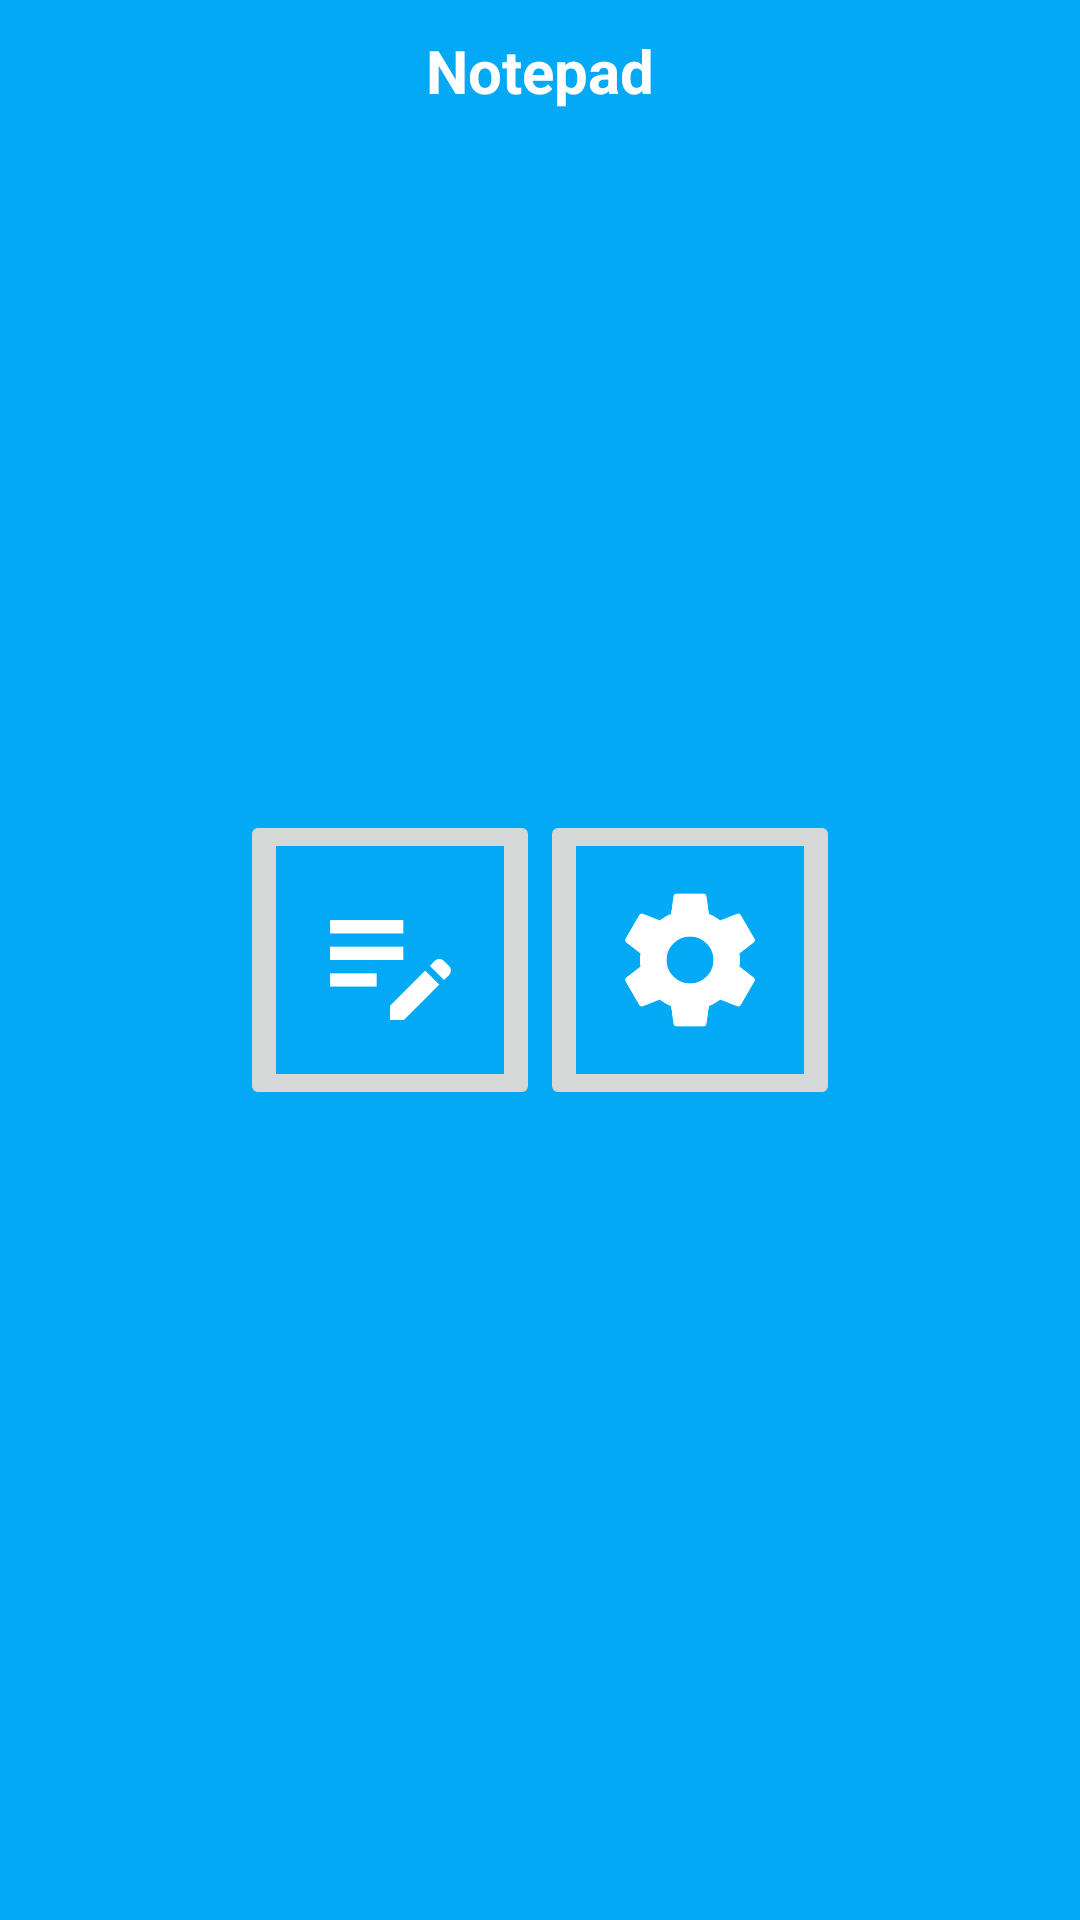

Screen size 1080px x 1920px. Icon name, then its center in pixels as (x,y):
notepad: (390,960)
settings: (690,960)
